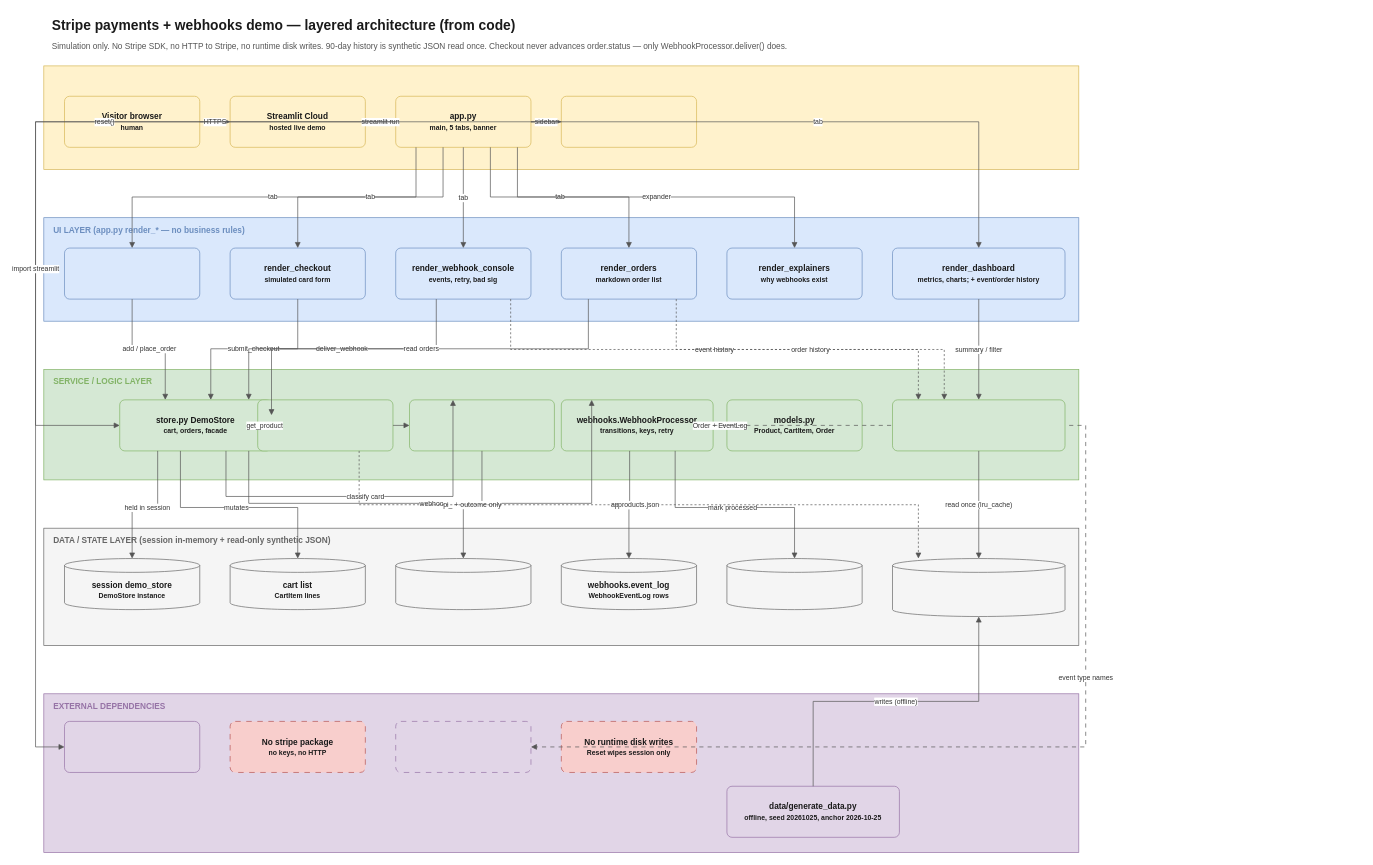
Image size: 1373x865. Some labels were removed from this diagram. Here are the shapes that lost their labels. From the top down, the box of each, then its label:
(43, 65, 1079, 169): ENTRY / HOSTING
(561, 96, 697, 147): Sidebar Reset demo store.reset()
(64, 247, 200, 299): render_storefront catalog, cart, Place order
(257, 399, 393, 451): catalog.py 12 products from products.json
(409, 399, 554, 451): checkout.py 4242 success / 4000 decline
(892, 399, 1065, 451): history.py load_dataset, metrics, filters, story
(395, 558, 531, 610): orders list status pending to refunded
(726, 558, 862, 610): processed + retry keys idempotency sets
(892, 558, 1065, 617): data/*.json (read-only) 90 days: 300 orders, 440 attempts, 1202 events
(64, 721, 200, 772): Streamlit runtime stdlib otherwise
(395, 721, 531, 772): Simulated Stripe shape pi_ evt_ event names
